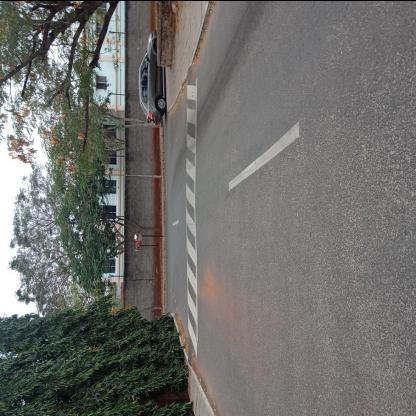speed-bumps: (176, 61, 204, 367)
